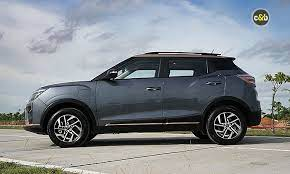XUV 400: (22, 47, 263, 150)
